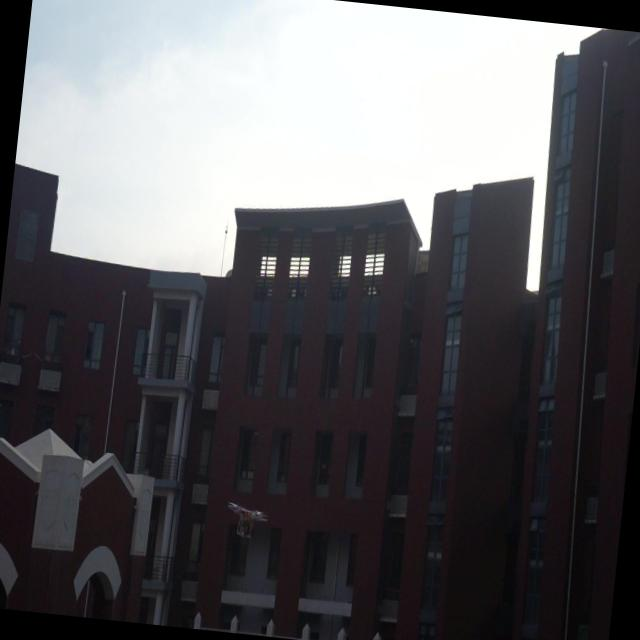drone: (222, 497, 271, 547)
